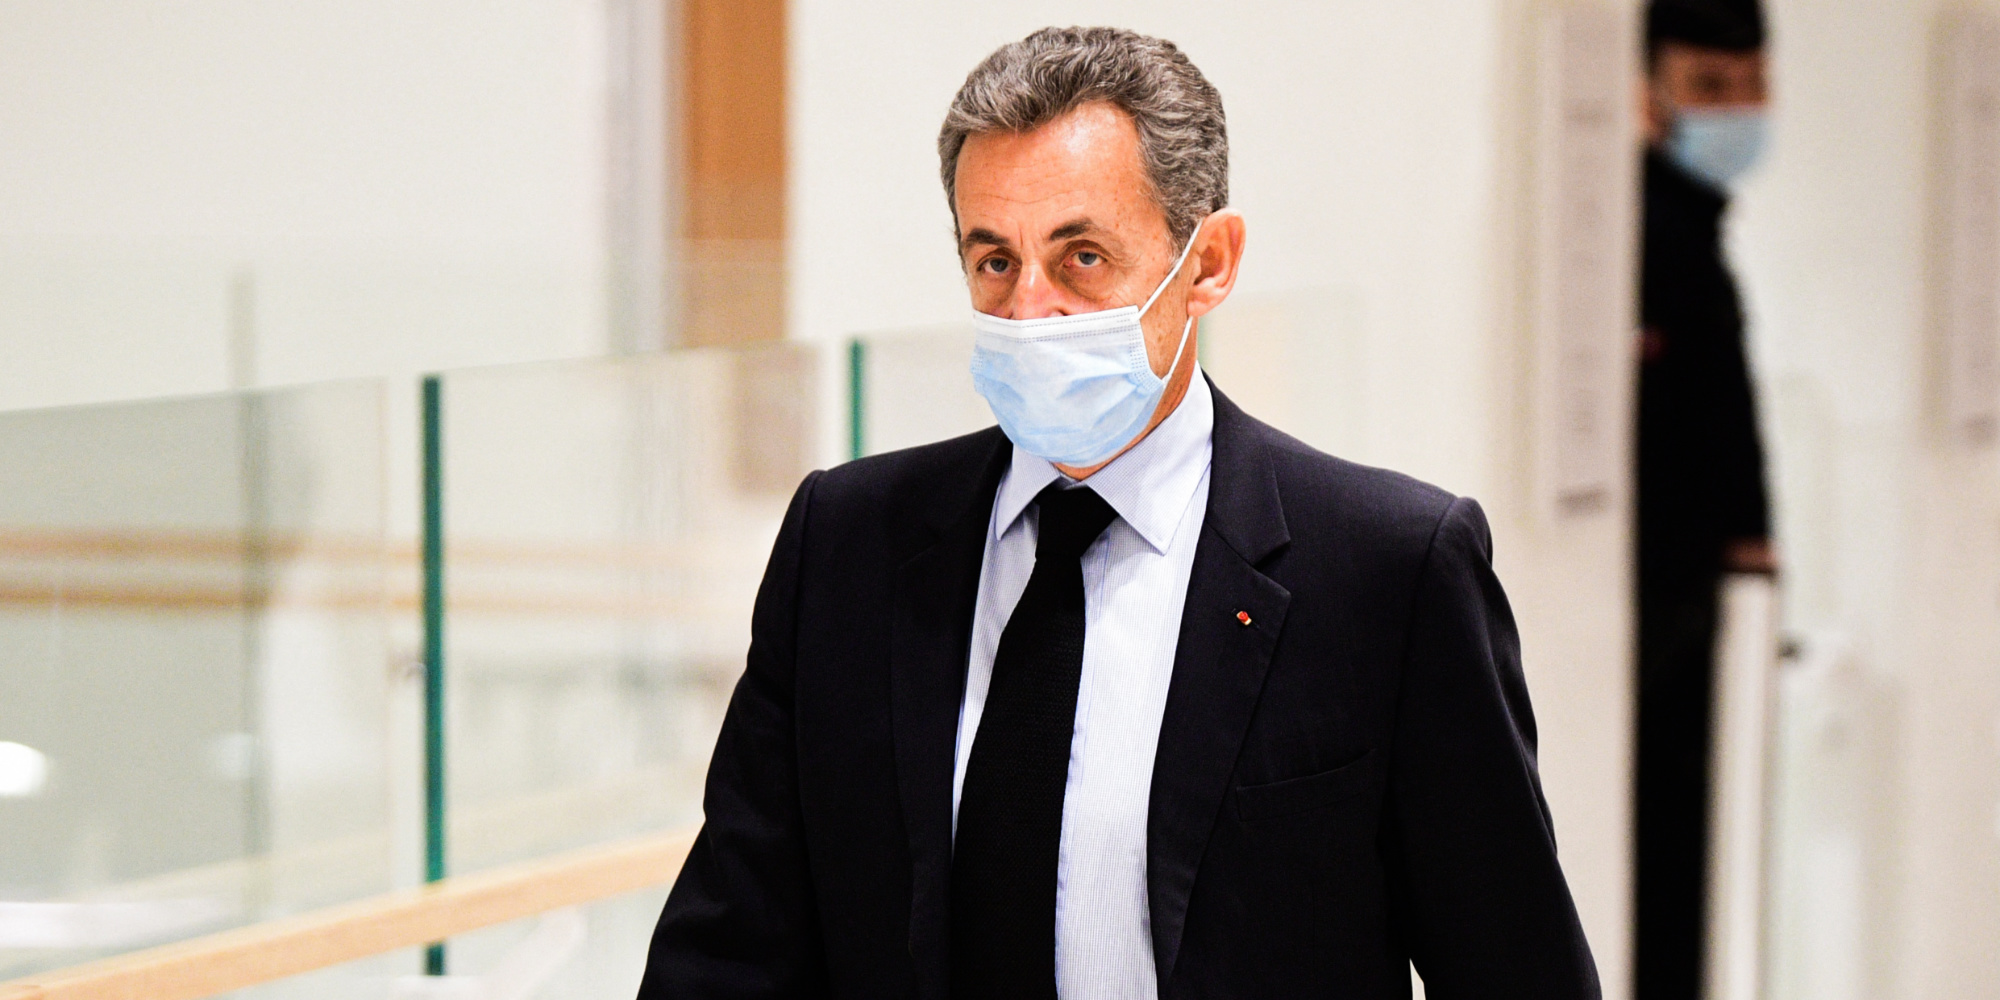with_mask: (969, 139, 1190, 372)
